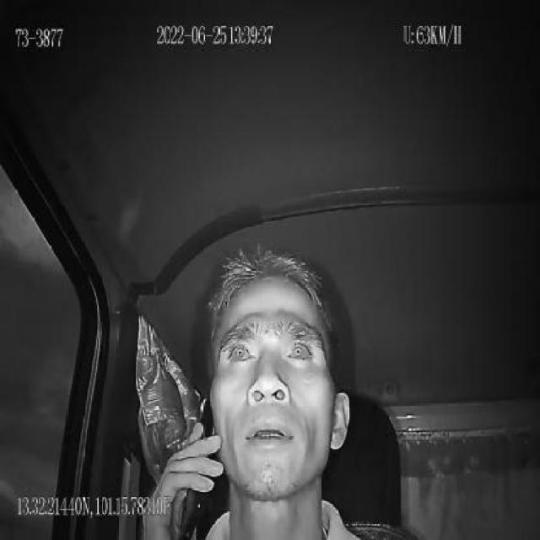phone: (178, 395, 214, 540)
